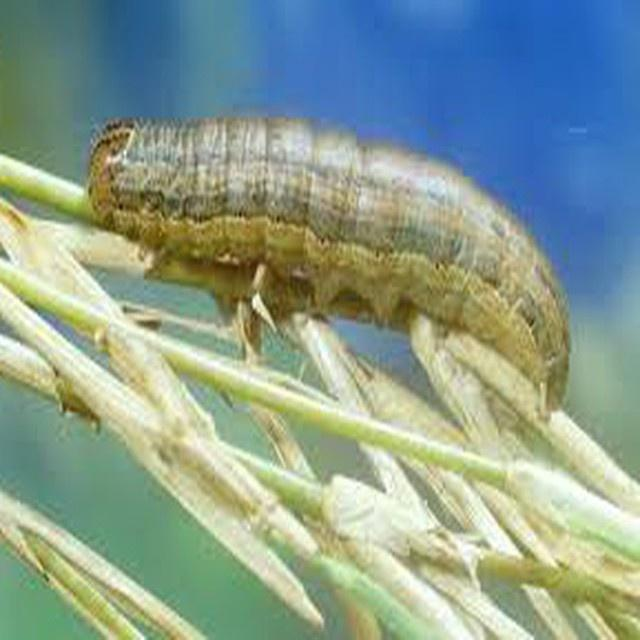gusano_cogollero: (84, 110, 574, 412)
